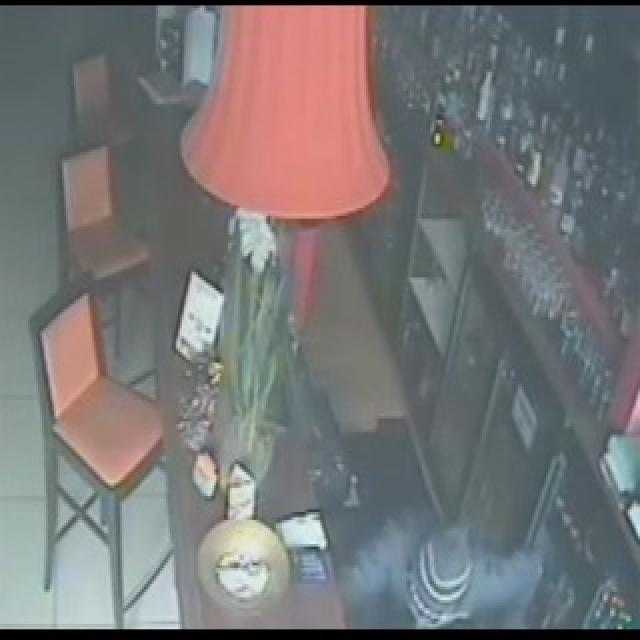thief: (373, 521, 483, 622)
